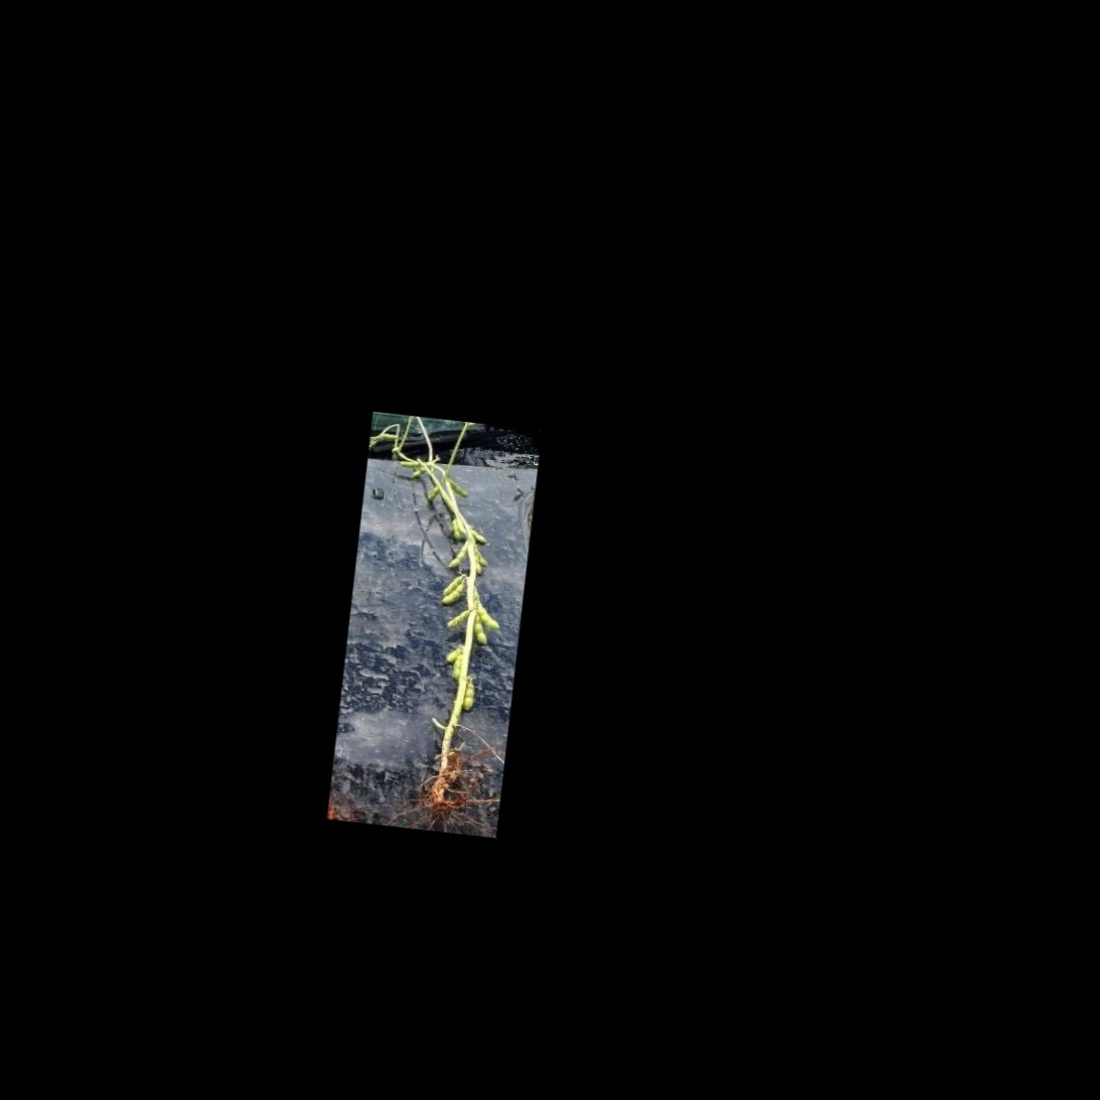pod: (471, 599, 504, 631), (458, 678, 478, 716), (443, 607, 472, 631), (445, 541, 468, 570), (470, 615, 491, 646), (424, 477, 445, 504), (447, 478, 473, 498), (452, 653, 464, 681), (410, 464, 429, 482)
soy: (345, 434, 526, 820)
